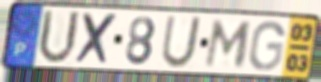8: (125, 15, 158, 66)
G: (247, 20, 287, 73)
M: (202, 18, 255, 69)
U: (35, 8, 82, 67), (159, 15, 204, 70)
X: (73, 11, 120, 67)
